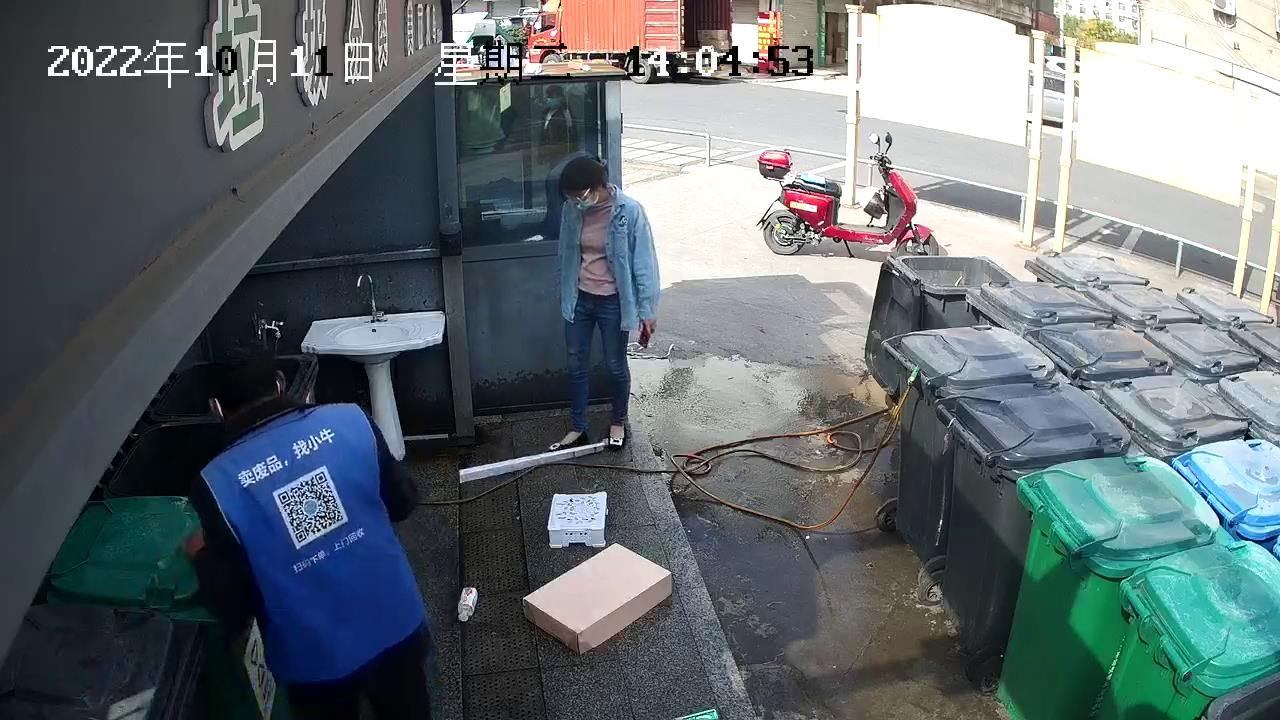suliaozhipin: (543, 490, 611, 549), (456, 583, 479, 622)
worker: (179, 344, 436, 720), (548, 155, 662, 451)
zhizhipin: (519, 541, 675, 656)
